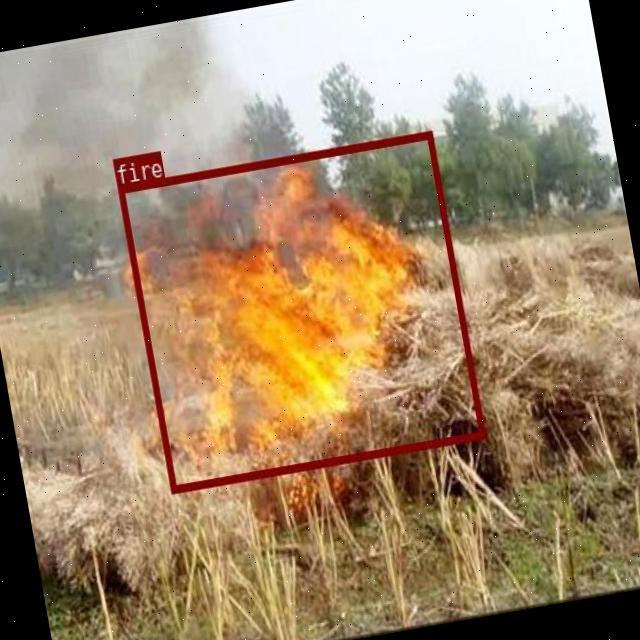fire: (118, 130, 484, 491)
